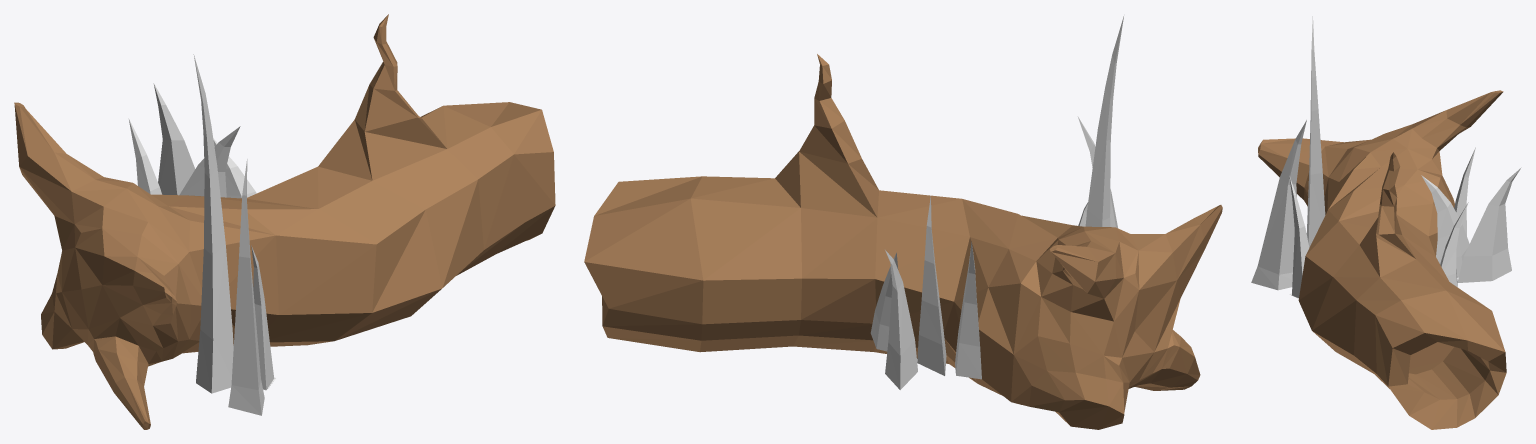
Rendered from grass_cut_big_trunka.fbx.
3 views of the same model, side by side, from view 1: azimuth 30°, elevation 25°; view 2: azimuth 150°, elevation 25°; view 3: azimuth 270°, elevation 25° (orthographic). The views are drawn at different scales.
Parts seen in each view (by area): view 1: grass_cut_big_trunk; view 2: grass_cut_big_trunk; view 3: grass_cut_big_trunk.
Boxes of the visible parts, box(x1,y1,x2,y2) form: grass_cut_big_trunk: box(14, 14, 555, 429); grass_cut_big_trunk: box(584, 16, 1222, 429); grass_cut_big_trunk: box(1251, 16, 1521, 429).
Size of the model in its own units: 3.93 by 2.71 by 2.43.
